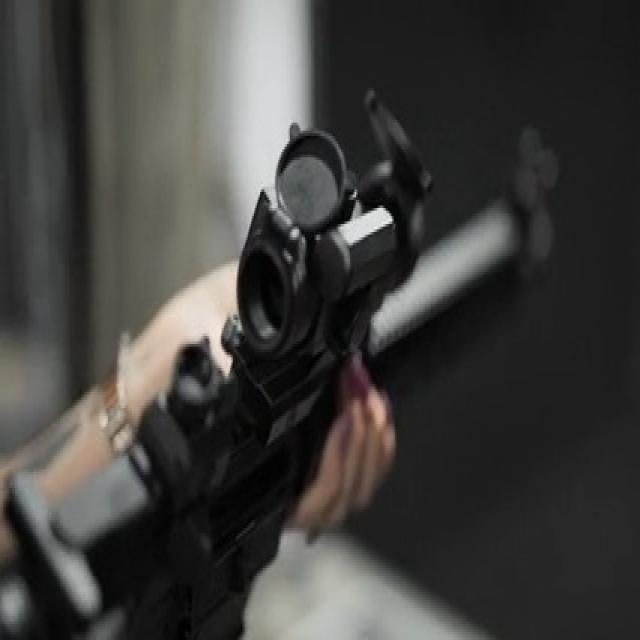Gun_Holder: (31, 77, 589, 640)
